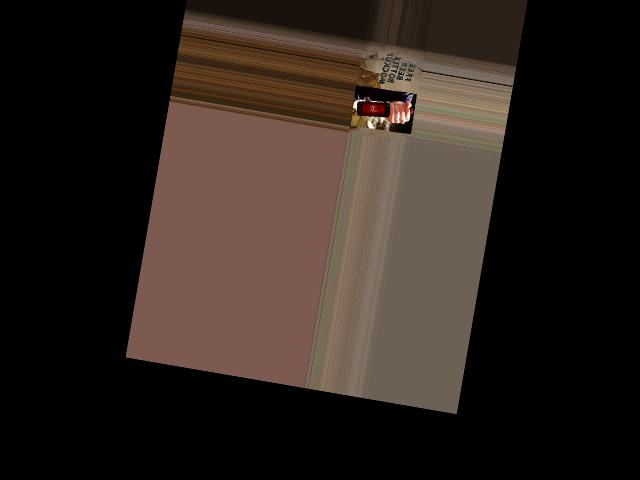beer: (355, 98, 413, 124)
